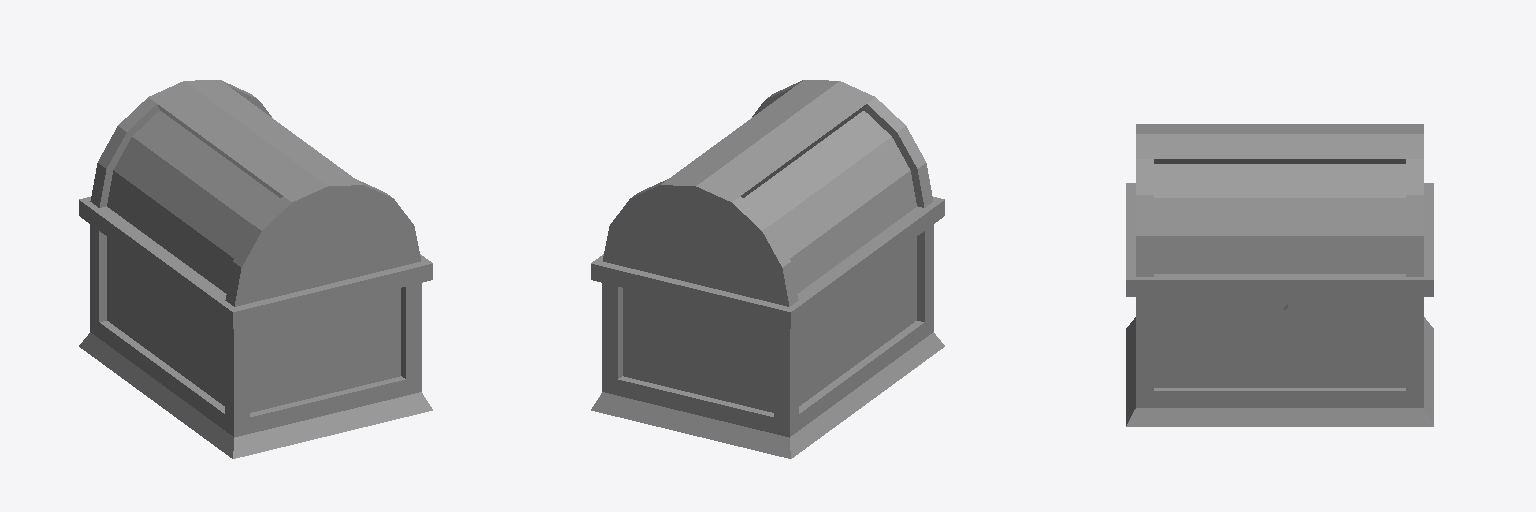
The model's file is chest-3.obj.
3 views of the same model, side by side, from view 1: azimuth 30°, elevation 25°; view 2: azimuth 150°, elevation 25°; view 3: azimuth 270°, elevation 25° (orthographic).
Parts seen in each view (by area): view 1: box_Cube; view 2: box_Cube; view 3: box_Cube.
Part boxes in pixels (x1,y1,x2,y2): box_Cube: (79,80,432,458); box_Cube: (591,80,944,458); box_Cube: (1126,124,1433,426).
Bounding box in the file's own units: 0.6431 × 0.75 × 0.8574.